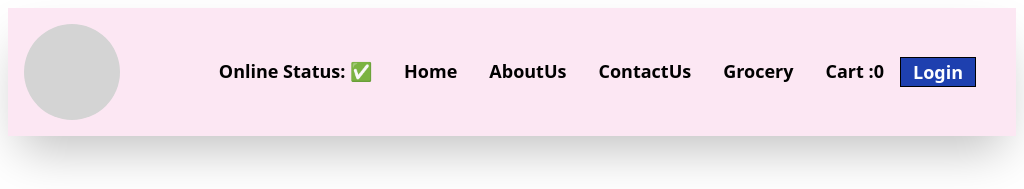
Test: Test Header components › Should test header components
Click the button "Login". click: point(938, 72)
box: [900,57,976,87]
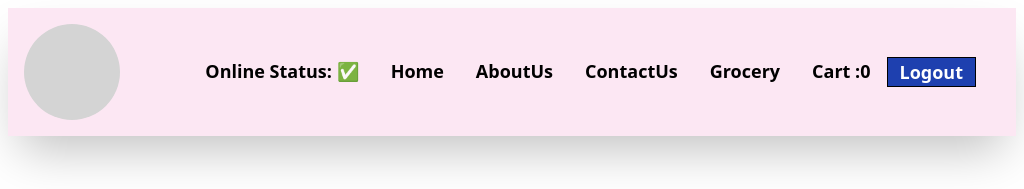
Check: the link "Home" is shown, box [391,59,444,83]
Check: the button "Logout" is shown, box [886,57,976,87]
